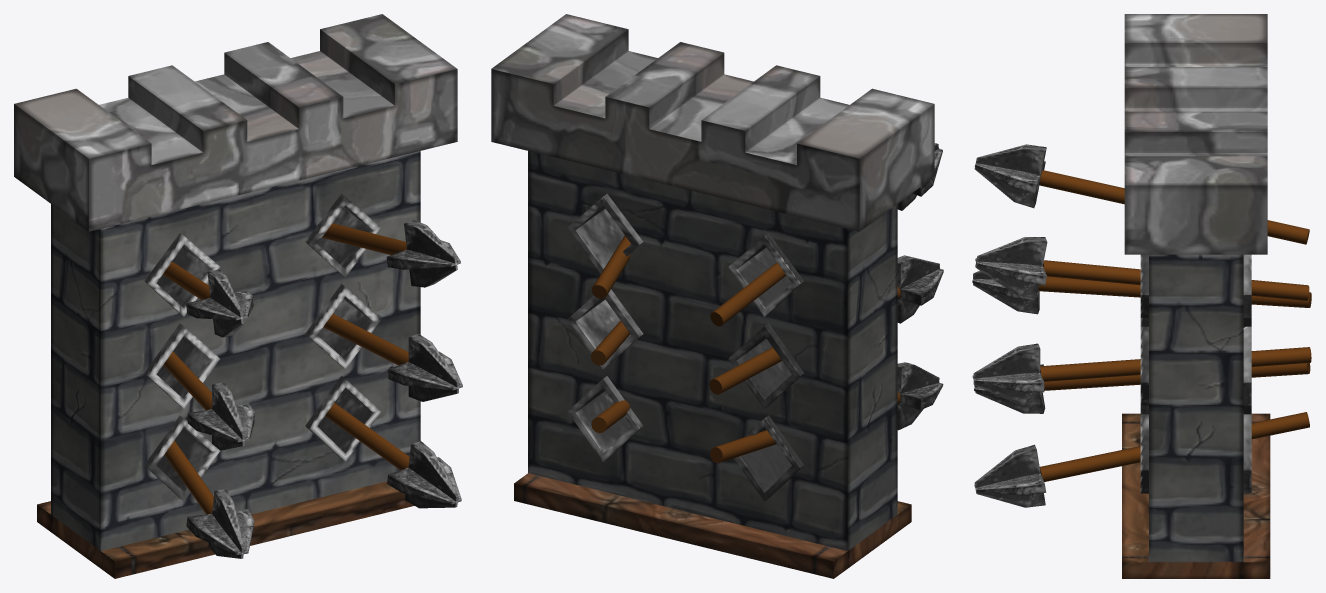
Rendered from 68_ELM_ArrowWall.fbx.
The picture shows the model from 3 angles, left to right: view 1: azimuth 30°, elevation 25°; view 2: azimuth 150°, elevation 25°; view 3: azimuth 270°, elevation 25°; orthographic projection. The views are drawn at different scales.
Visible parts, largest first — view 1: Wall, Arrow6, Arrow4, Arrow2, Arrow5, Arrow3, Arrow; view 2: Wall, Arrow3, Arrow5, Arrow, Arrow2, Arrow4, Arrow6; view 3: Wall, Arrow4, Arrow6, Arrow2, Arrow, Arrow3, Arrow5.
Part boxes in pixels (bbox=[...]): Wall: bbox=[14, 14, 457, 578]; Arrow6: bbox=[325, 403, 461, 508]; Arrow4: bbox=[323, 313, 462, 401]; Arrow2: bbox=[322, 220, 460, 287]; Arrow5: bbox=[164, 440, 254, 558]; Arrow3: bbox=[163, 351, 254, 450]; Arrow: bbox=[163, 261, 254, 337]; Wall: bbox=[491, 14, 934, 578]; Arrow3: bbox=[709, 255, 943, 394]; Arrow5: bbox=[710, 362, 943, 462]; Arrow: bbox=[710, 143, 942, 326]; Arrow2: bbox=[591, 235, 630, 298]; Arrow4: bbox=[590, 320, 630, 365]; Arrow6: bbox=[591, 400, 629, 432]; Wall: bbox=[1122, 14, 1270, 578]; Arrow4: bbox=[972, 343, 1311, 405]; Arrow6: bbox=[974, 412, 1309, 507]; Arrow2: bbox=[975, 237, 1309, 300]; Arrow: bbox=[974, 144, 1309, 244]; Arrow3: bbox=[972, 270, 1311, 314]; Arrow5: bbox=[974, 363, 1310, 413].
Bounding box in the file's own units: 2.35 × 2.59 × 1.97.
Materials: 1 (1 with a texture image).
